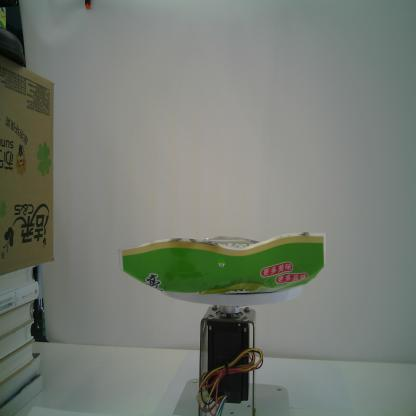Dried Food: (116, 227, 327, 299)
